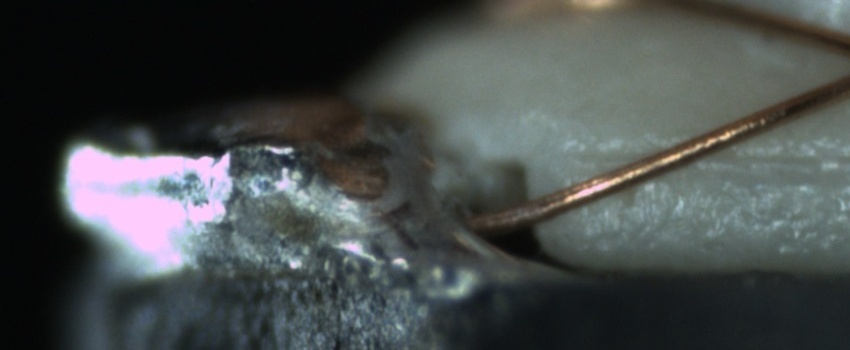DL: (578, 125, 840, 191)
